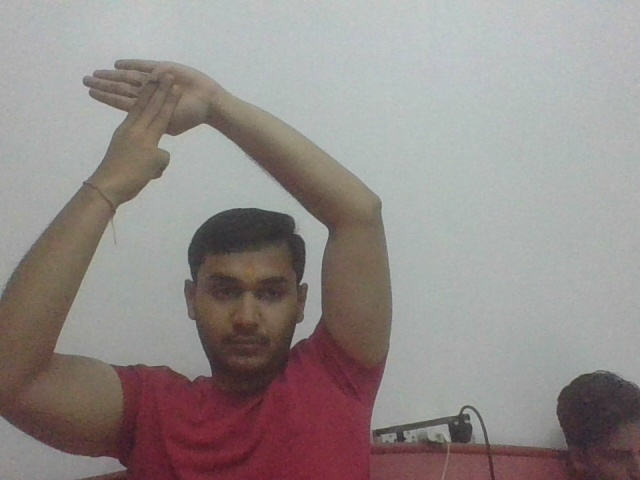M: (80, 55, 214, 175)
